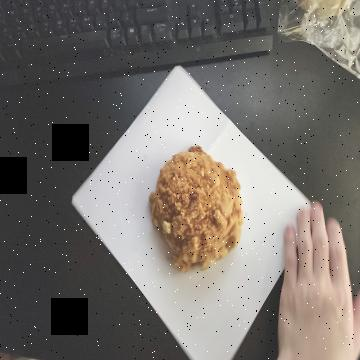soboru_bread: (149, 141, 245, 278)
